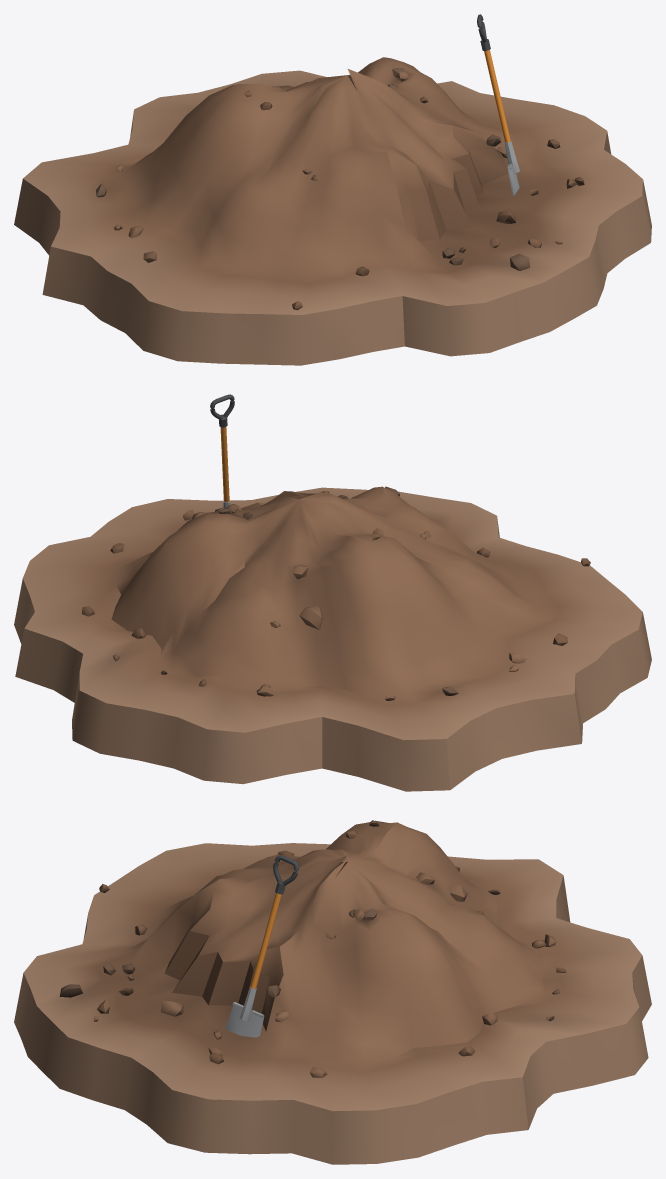
Rendered from regolith_pile.glb.
3 views of the same model, one above another, from view 1: azimuth 30°, elevation 25°; view 2: azimuth 150°, elevation 25°; view 3: azimuth 270°, elevation 25° (orthographic). The views are drawn at different scales.
Parts seen in each view (by area): view 1: heap_mesh, shovel_mesh; view 2: heap_mesh, shovel_mesh; view 3: heap_mesh, shovel_mesh.
Boxes of the visible parts, x1,y1,x2,y2 form: heap_mesh: (14, 57, 651, 365); shovel_mesh: (477, 14, 519, 195); heap_mesh: (14, 486, 651, 791); shovel_mesh: (210, 394, 234, 508); heap_mesh: (14, 820, 651, 1164); shovel_mesh: (225, 855, 298, 1037).
Size of the model in its own units: 3.55 by 1.31 by 3.36.
